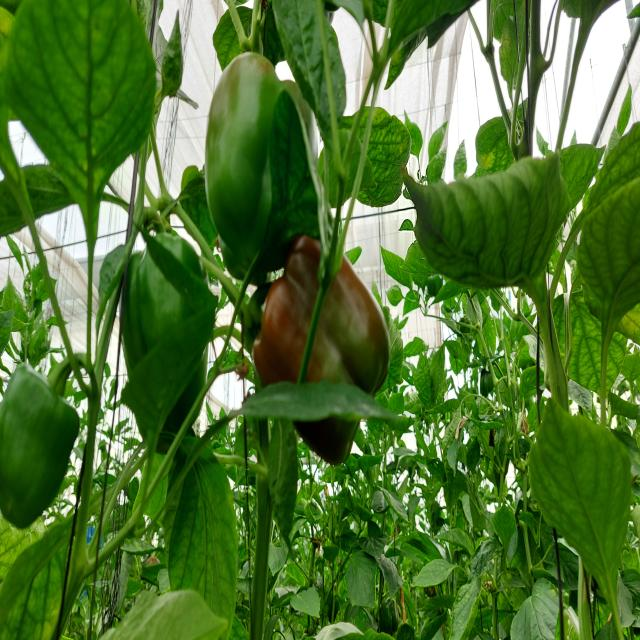BrownishRed--Can-be-Harvested: (242, 238, 393, 462)
